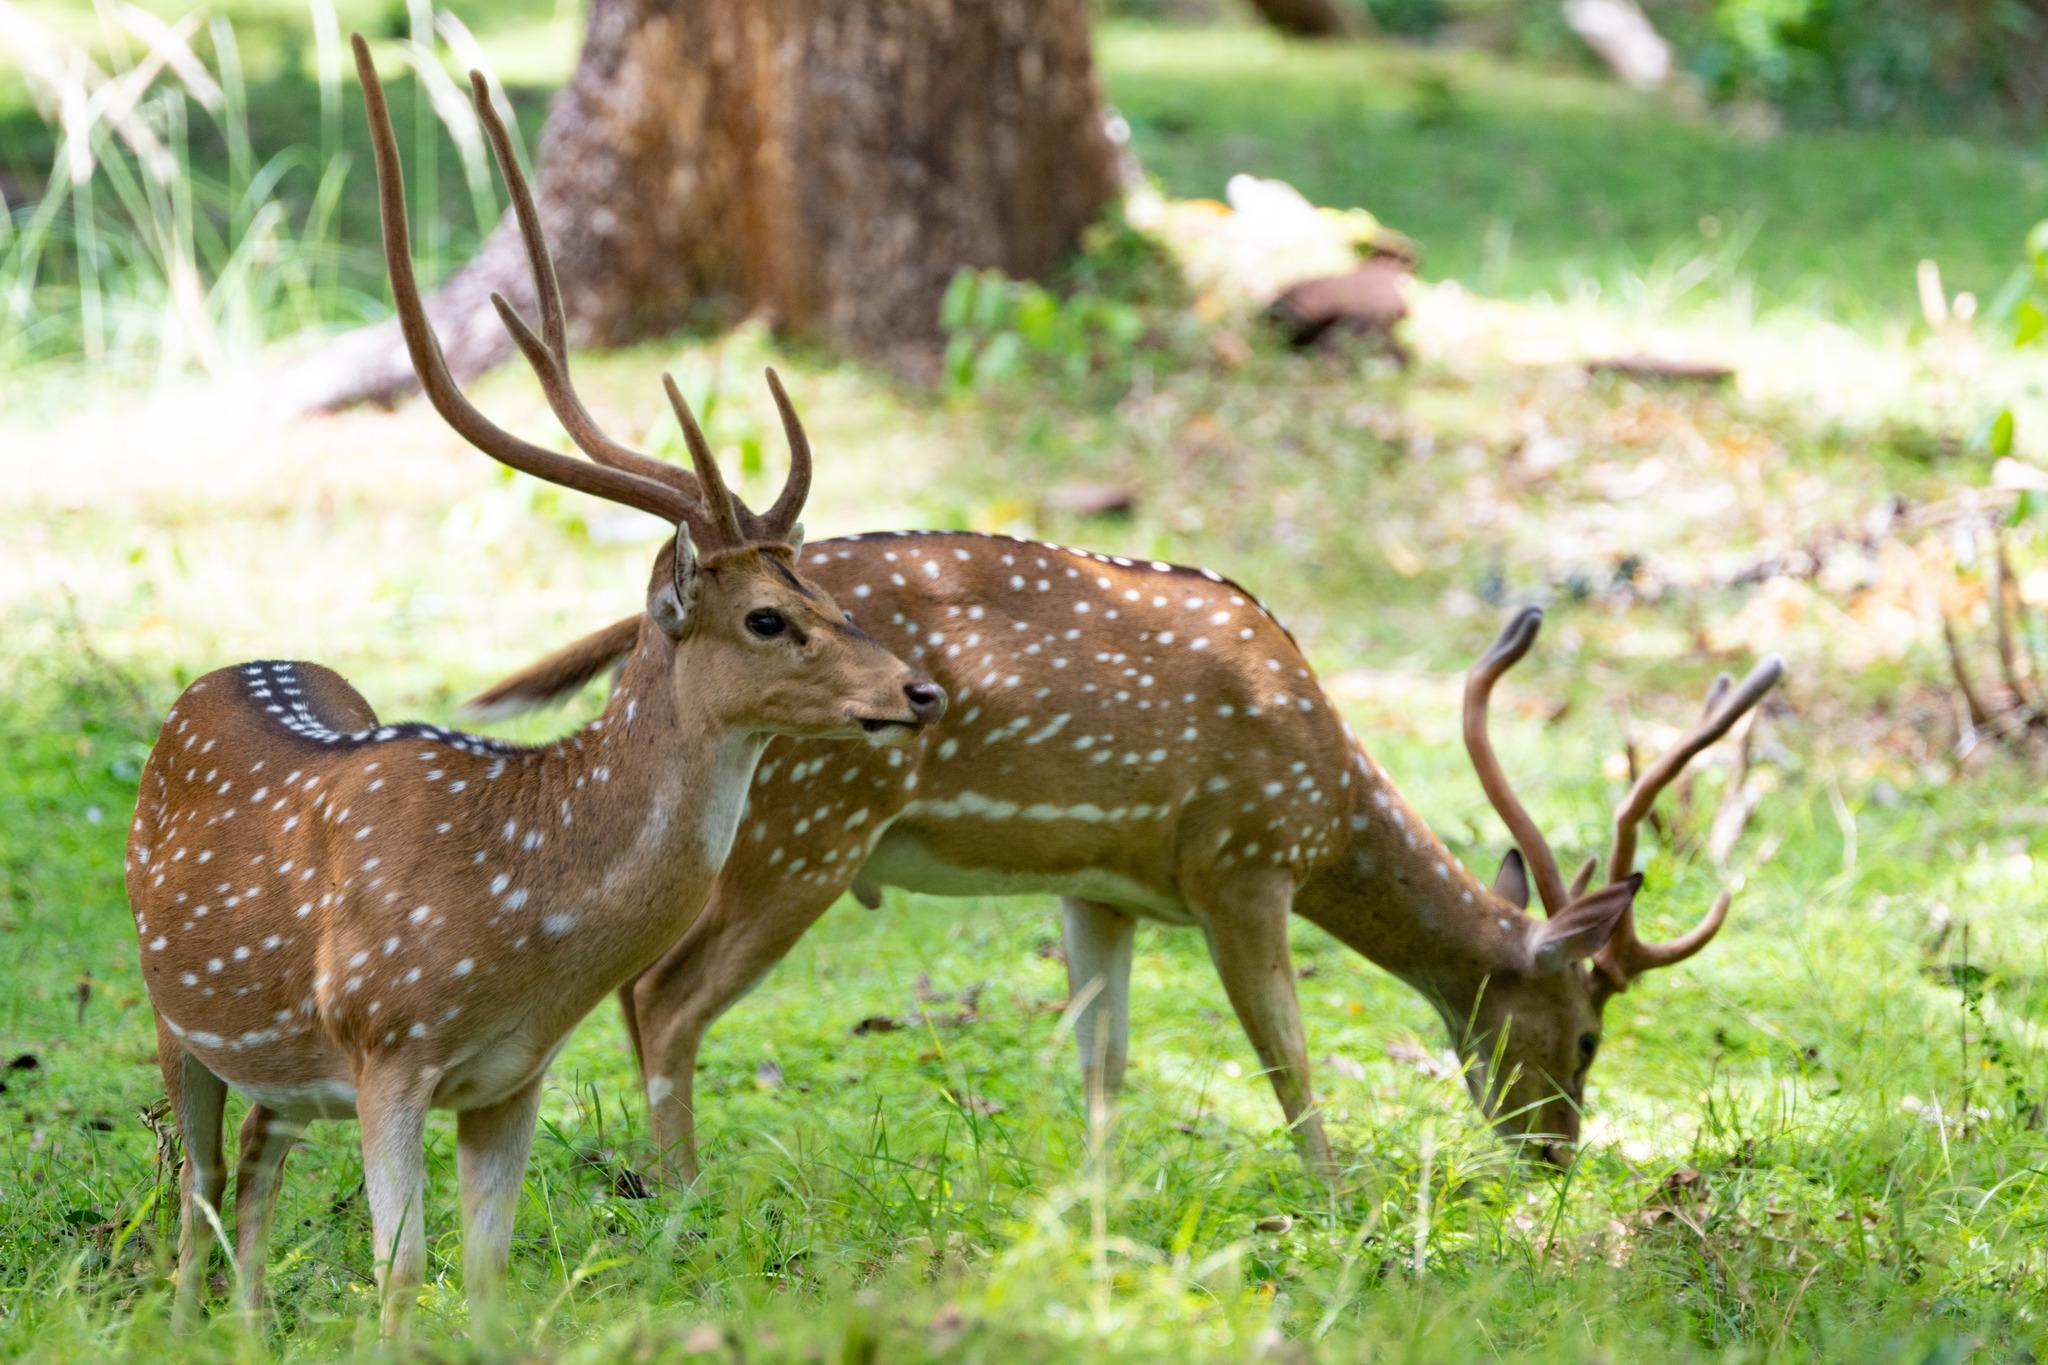Deer: (126, 43, 1710, 1298), (627, 532, 1782, 1173)
